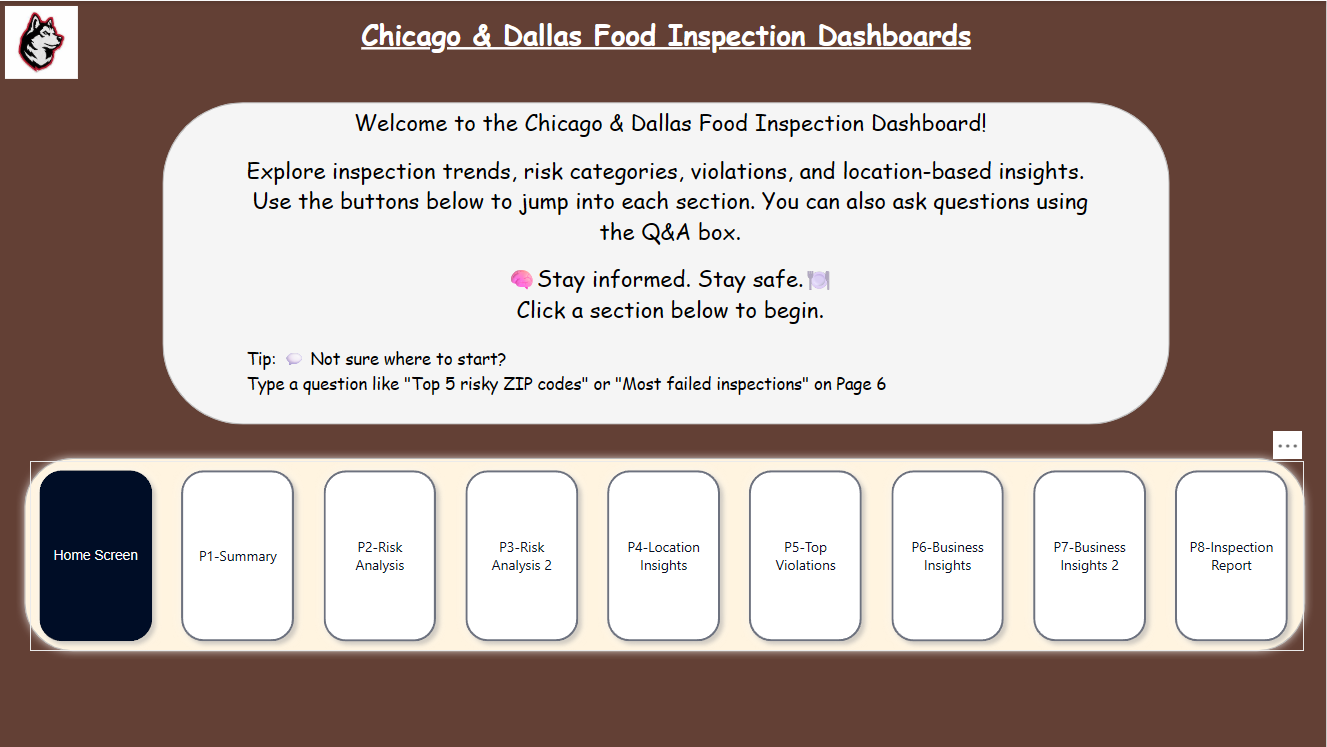

This screenshot's page, from the dashboard's own definition file:
{"tool":"powerbi","page":{"name":"Home Screen","canvas":[1280,720],"ordinal":0},"visuals":[{"type":"shape","box":[15.2,433.4,1251.6,202.5],"z":0},{"type":"textbox","box":[236,8,813,49],"z":1000},{"type":"shape","box":[157,98,972,311],"z":3000},{"type":"pageNavigator","box":[28.4,443.5,1229.4,183.3],"z":3500},{"type":"textbox","box":[233,98,828,311],"z":4000},{"type":"image","box":[0,0,80,80],"z":5000}]}

Visuals, with their boxes in screenshot pixels (x1, y1, x2, y2), scaled from the page's 1280x720 canvas onto the 1327x747 screenshot:
shape: (16, 450, 1313, 660)
textbox: (245, 8, 1088, 59)
shape: (163, 102, 1170, 424)
pageNavigator: (29, 460, 1304, 650)
textbox: (242, 102, 1100, 424)
image: (0, 0, 83, 83)
